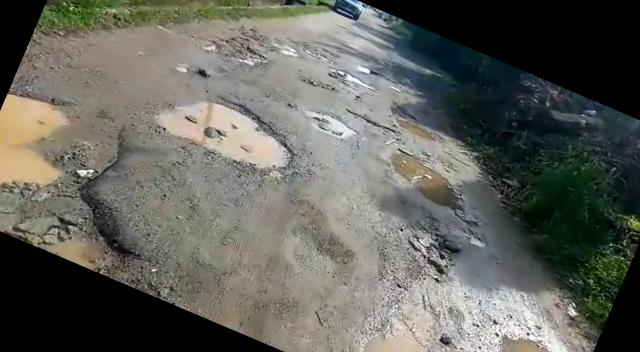pothole: (0, 71, 179, 280), (144, 70, 318, 190), (378, 147, 480, 220), (386, 217, 462, 285), (189, 19, 269, 73), (484, 324, 589, 352), (343, 106, 408, 140), (300, 104, 356, 142), (385, 110, 440, 146), (323, 62, 372, 92), (297, 71, 339, 96)
